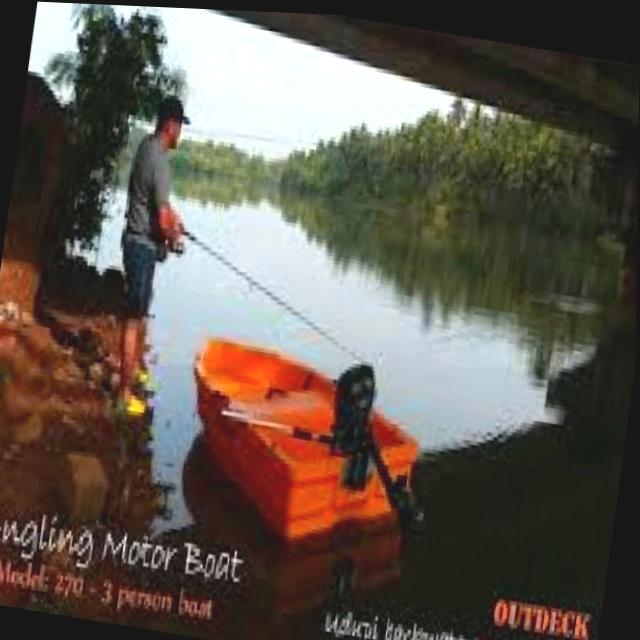ship2: (192, 336, 420, 540)
